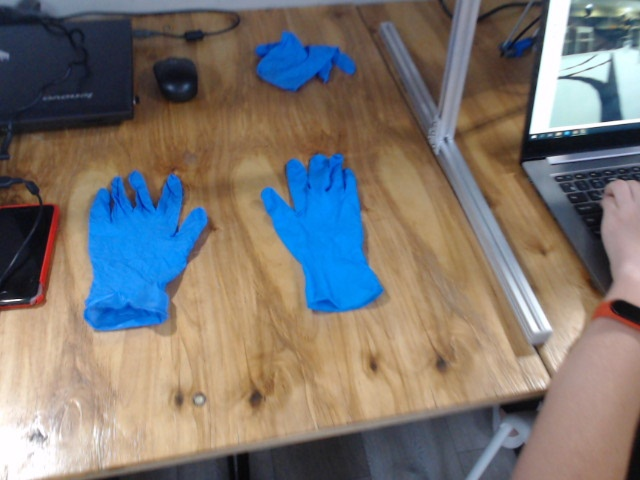medical_glove: (260, 154, 383, 313), (86, 171, 208, 329)
